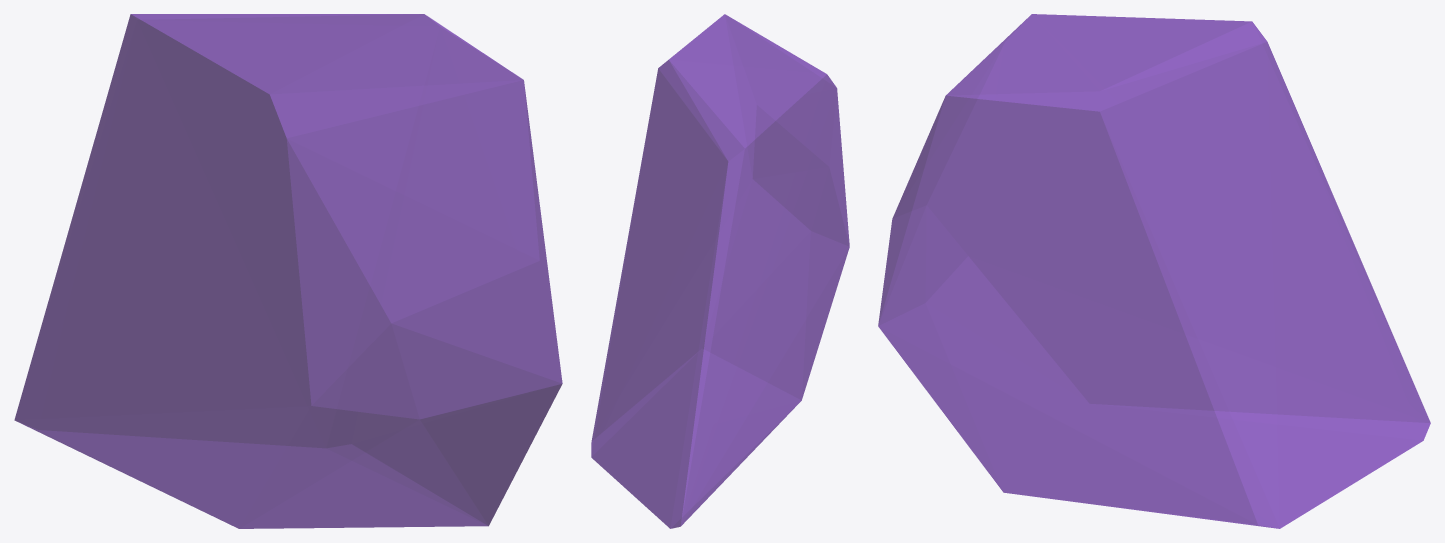
The picture shows the model from 3 angles, left to right: view 1: azimuth 30°, elevation 25°; view 2: azimuth 150°, elevation 25°; view 3: azimuth 270°, elevation 25°; orthographic projection. The views are drawn at different scales.
Parts seen in each view (by area): view 1: Shape_IndexedFaceSet.022_Shape_IndexedFaceSet.7508; view 2: Shape_IndexedFaceSet.022_Shape_IndexedFaceSet.7508; view 3: Shape_IndexedFaceSet.022_Shape_IndexedFaceSet.7508.
Part boxes in pixels (x1,y1,x2,y2): Shape_IndexedFaceSet.022_Shape_IndexedFaceSet.7508: [14, 14, 562, 528]; Shape_IndexedFaceSet.022_Shape_IndexedFaceSet.7508: [591, 14, 849, 528]; Shape_IndexedFaceSet.022_Shape_IndexedFaceSet.7508: [878, 14, 1430, 528].
Size of the model in its own units: 0.1108 by 0.2319 by 0.2677.
